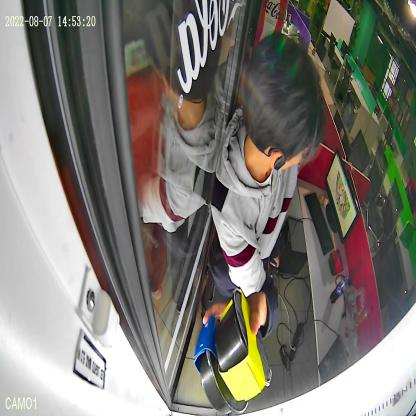blue: (194, 314, 248, 414)
yellow: (216, 288, 272, 402)
